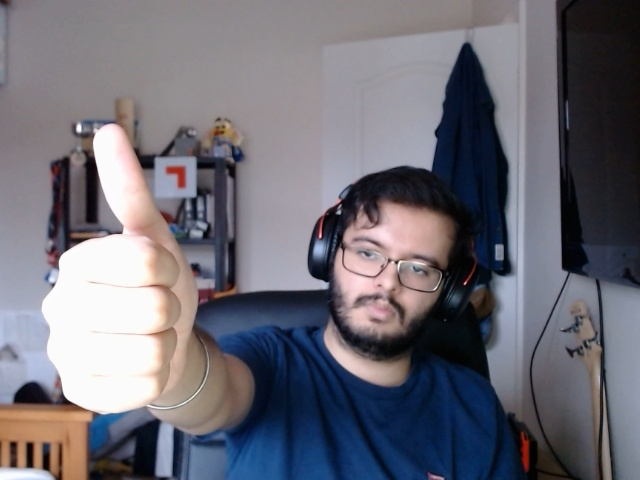Thumbs up: (28, 107, 223, 429)
